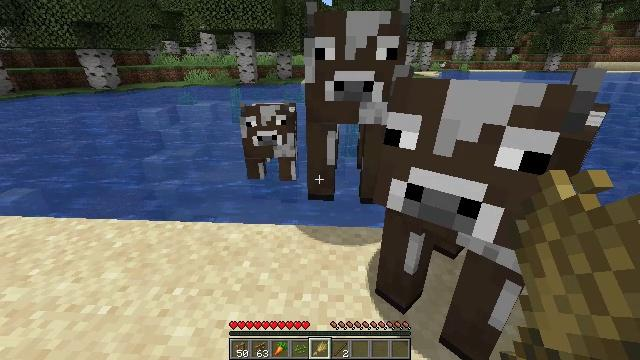chicken: (439, 60, 447, 69)
cow: (375, 89, 609, 309), (305, 13, 404, 197), (241, 105, 297, 182)
